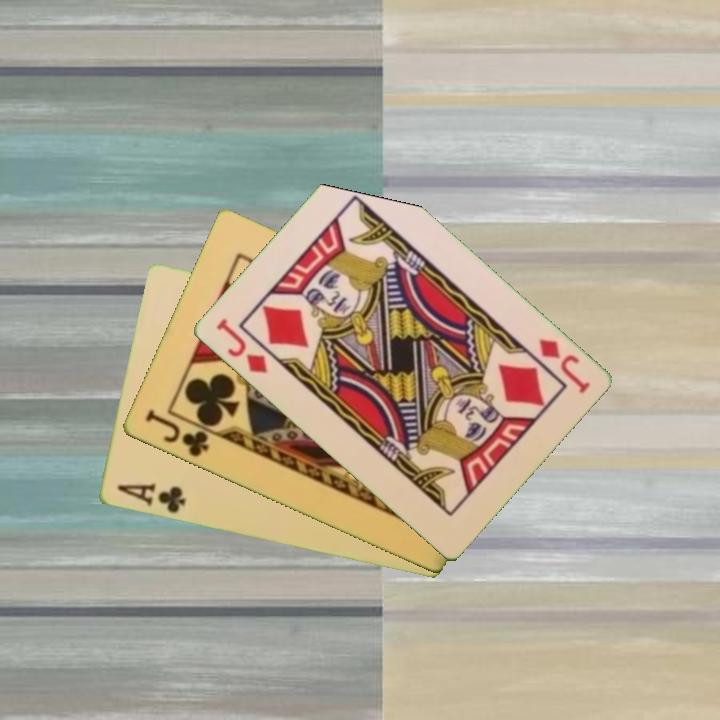Ac: (113, 479, 188, 517)
Jc: (141, 406, 211, 461)
Jd: (211, 314, 270, 377), (534, 335, 593, 397)
